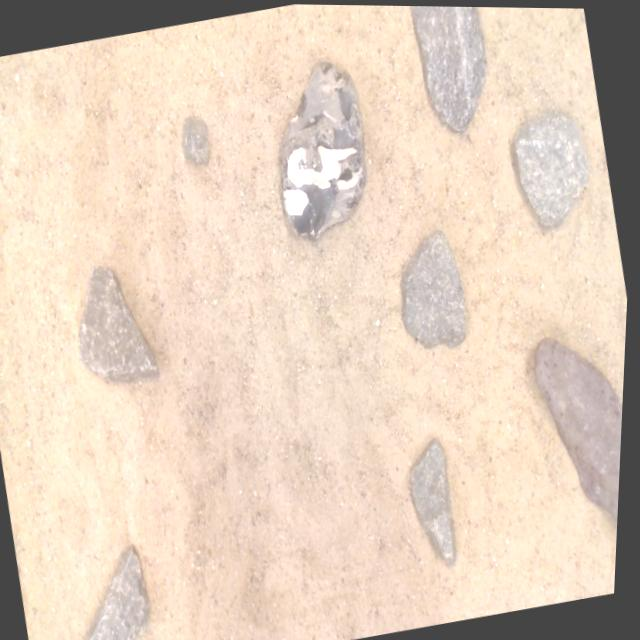rock: (536, 336, 626, 518), (281, 60, 366, 235), (410, 5, 485, 129), (81, 265, 160, 380), (515, 108, 587, 223), (403, 227, 467, 345), (90, 545, 154, 640), (415, 437, 460, 562), (182, 115, 209, 162)
